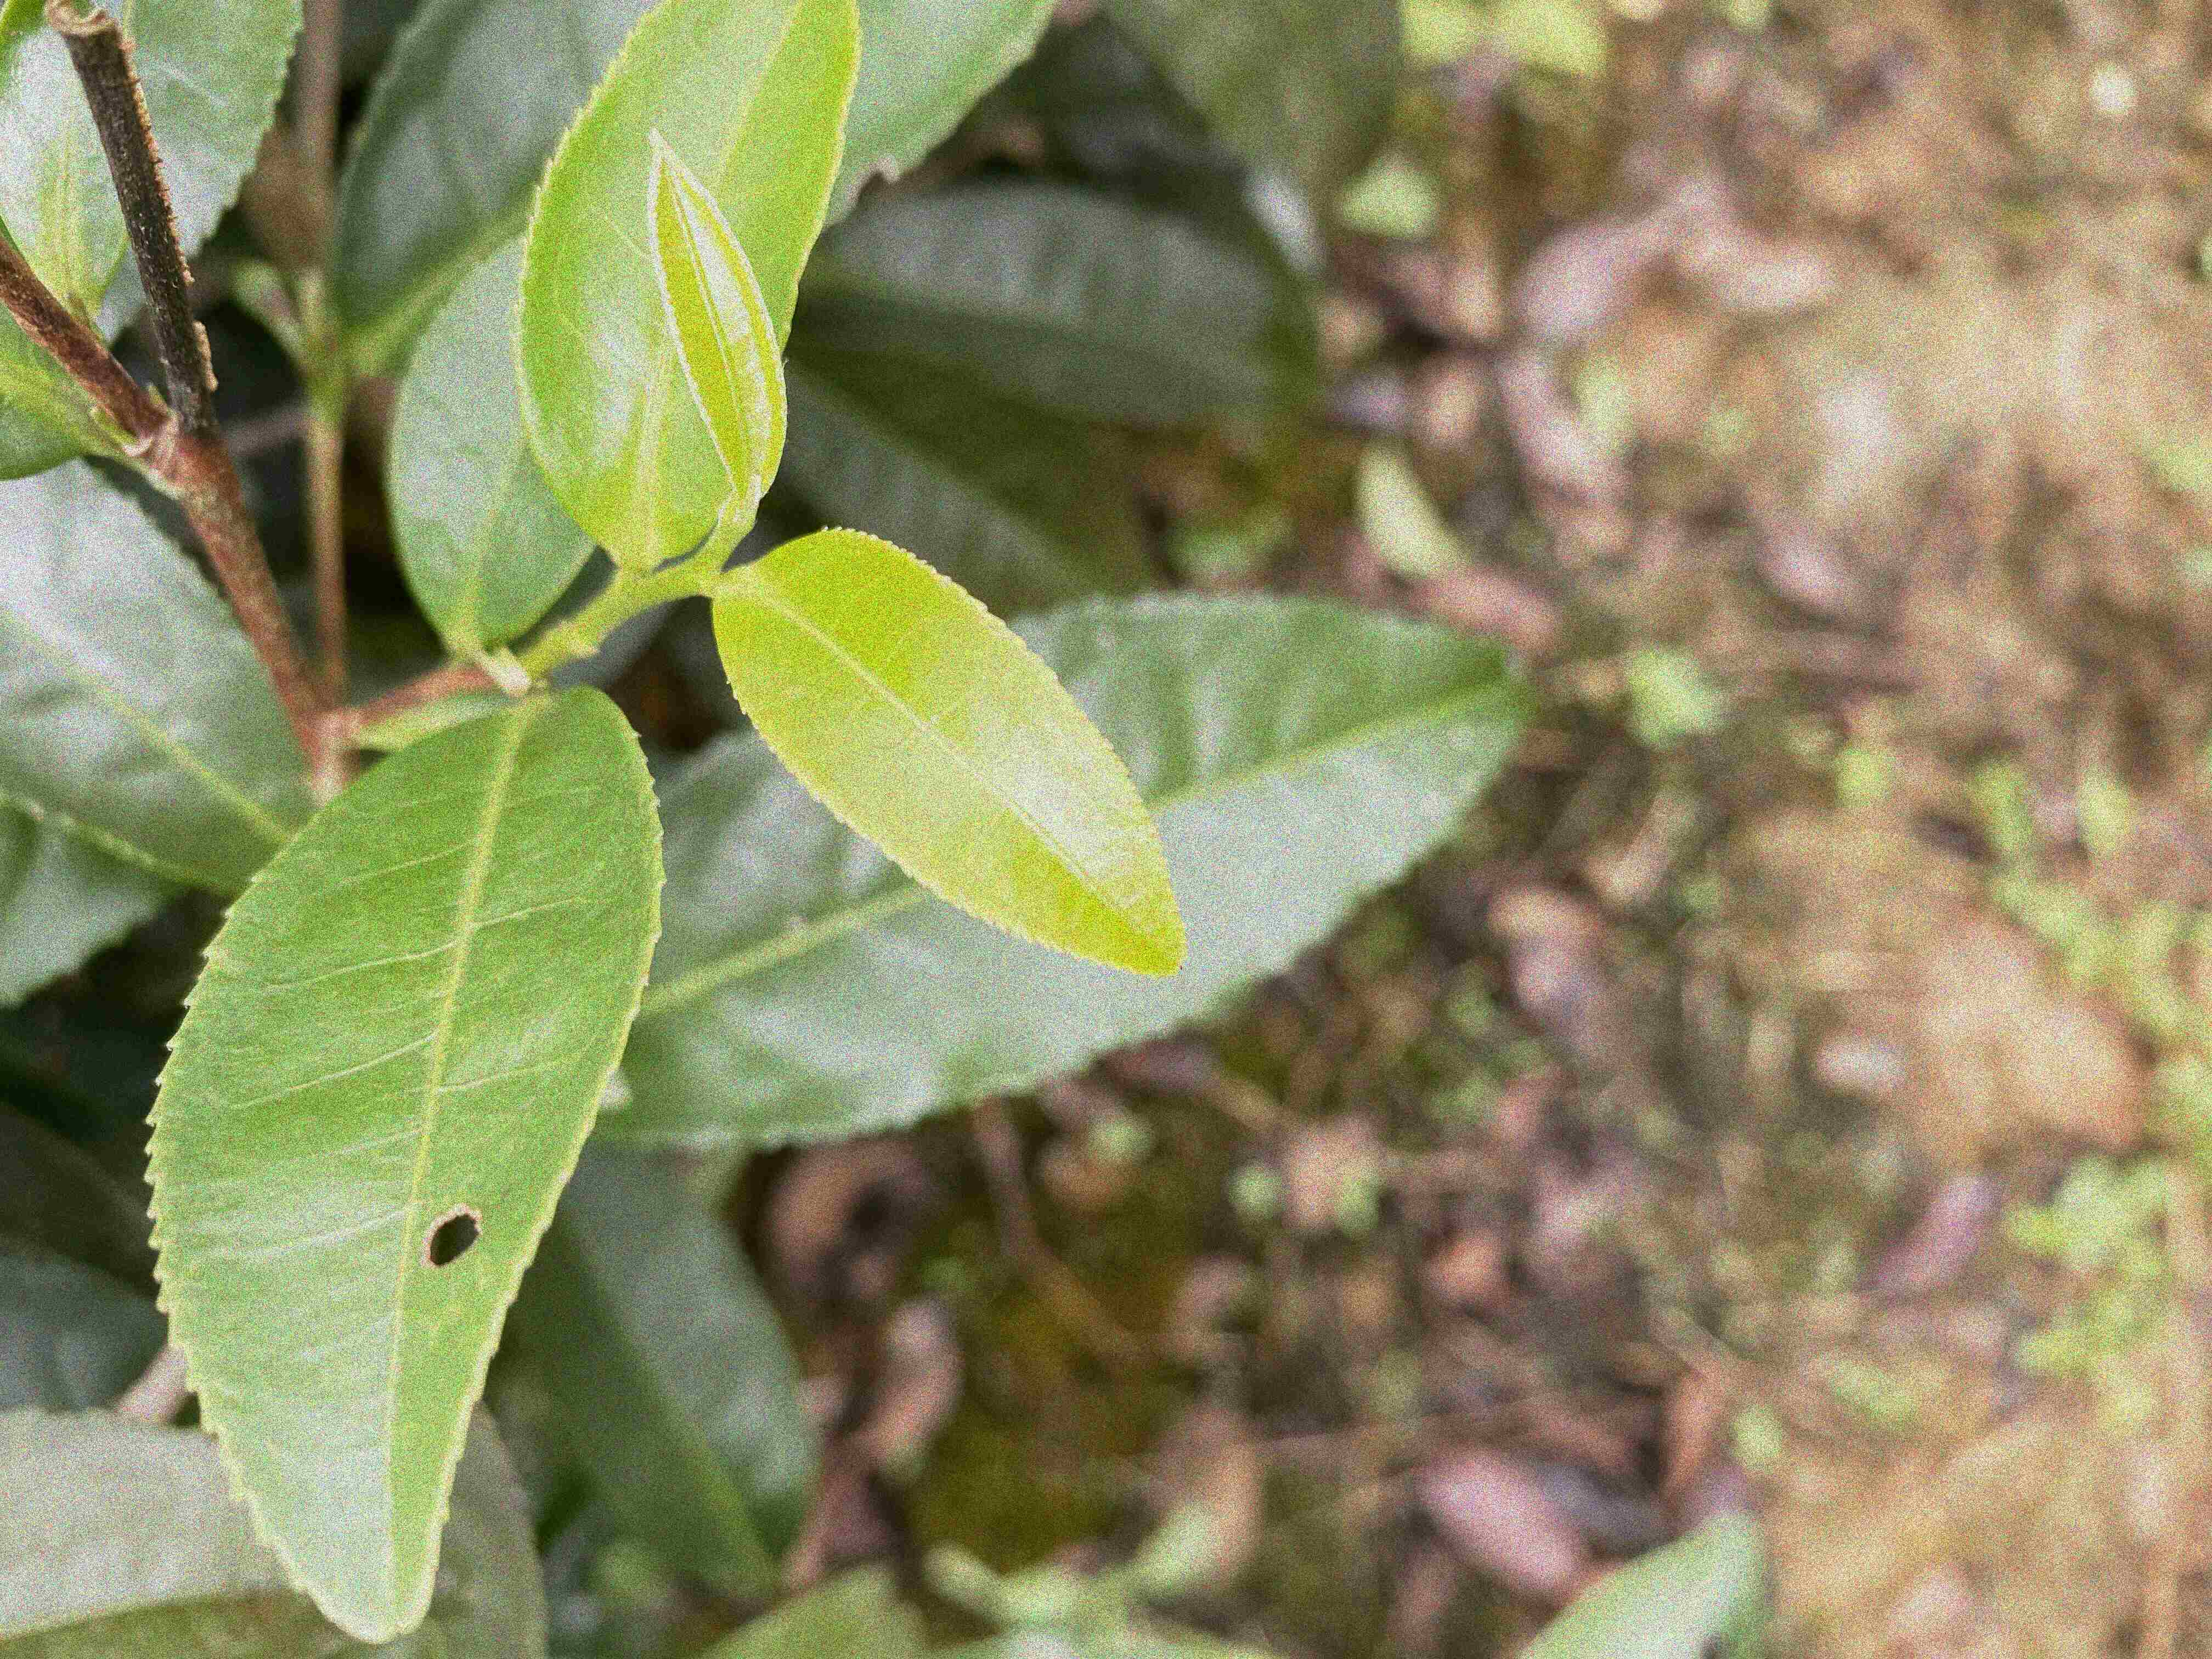chihuo_low: (141, 683, 667, 1643)
healthy: (711, 521, 1188, 976), (509, 3, 860, 568), (648, 120, 787, 500)
